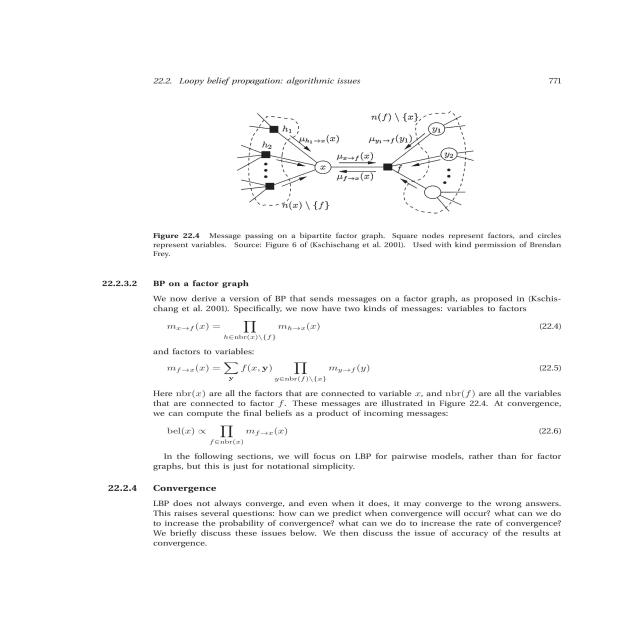diagram: (68, 96, 570, 270)
